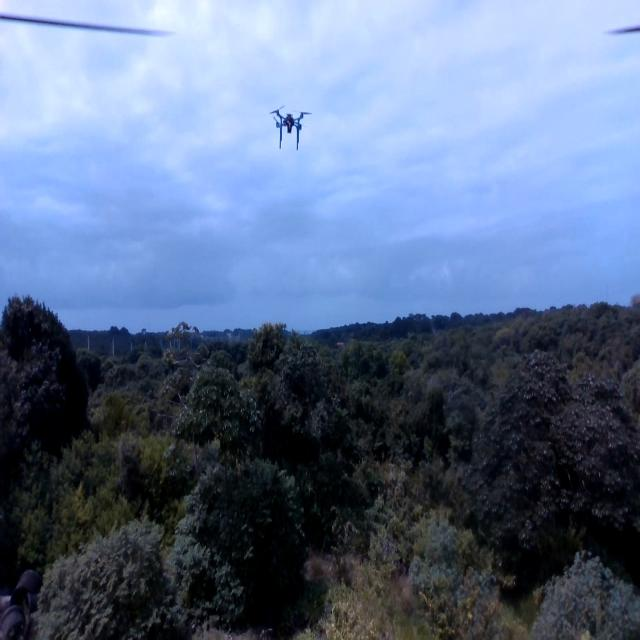-uav-: (263, 107, 317, 157)
